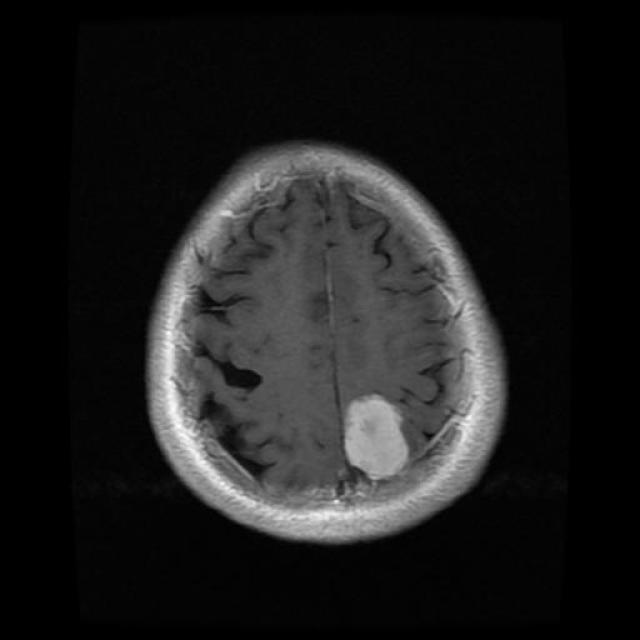meningioma: (344, 394, 411, 481)
